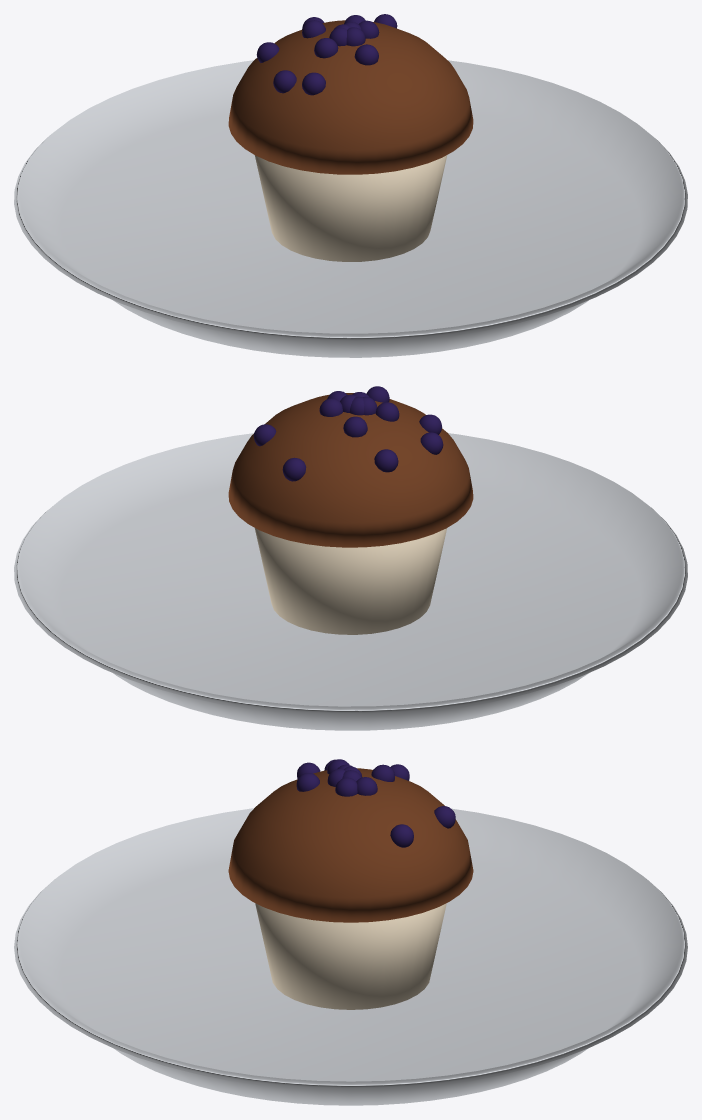
File: alba-muffin-cioccolato-yogurt-e-mirtilli.glb
3 renders of one model, top to bottom at view 1: azimuth 30°, elevation 25°; view 2: azimuth 150°, elevation 25°; view 3: azimuth 270°, elevation 25°, orthographic.
Size of the model in its own units: 0.22 by 0.0785 by 0.22.
